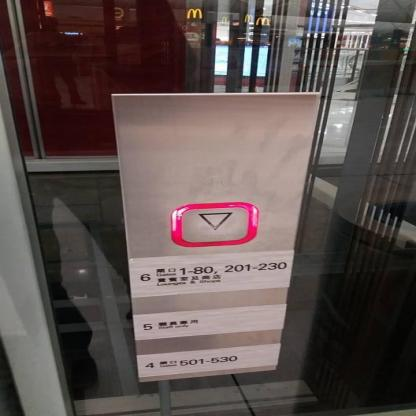down: (169, 202, 260, 247)
